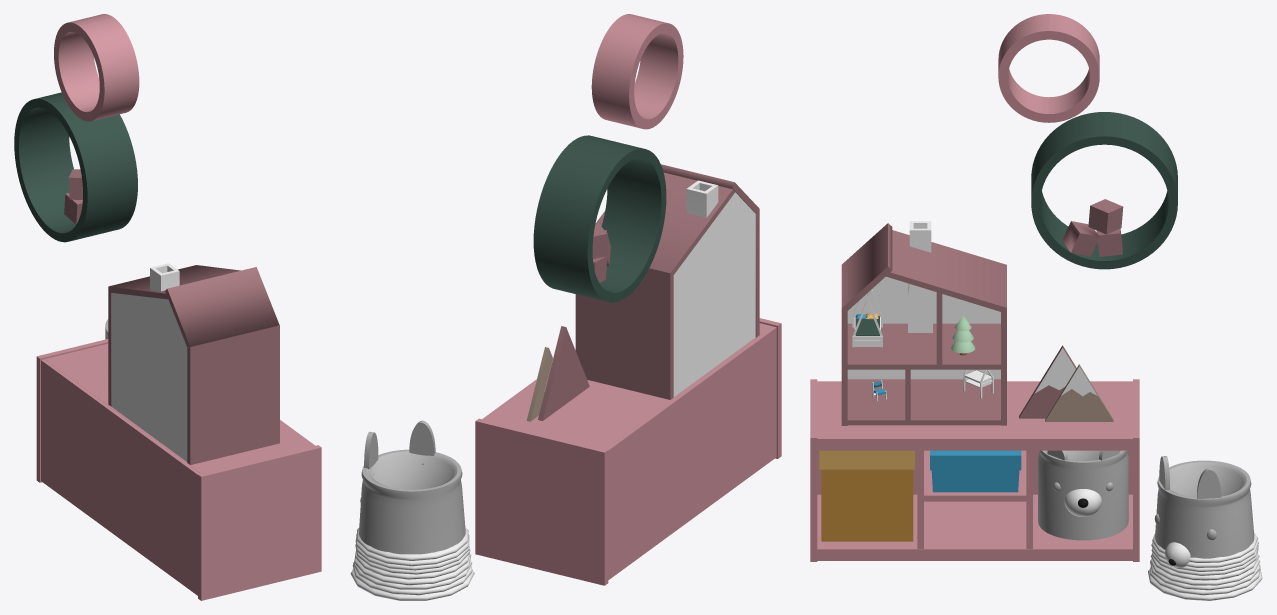
File: Furn1_playzone_color2_joined.fbx
3 views of the same model, side by side, from view 1: azimuth 30°, elevation 25°; view 2: azimuth 150°, elevation 25°; view 3: azimuth 270°, elevation 25° (orthographic). The views are drawn at different scales.
Visible parts, largest first — view 1: Цилиндр.001; view 2: Цилиндр.001; view 3: Цилиндр.001.
Boxes of the visible parts, bbox=[...] form: Цилиндр.001: bbox=[14, 14, 321, 600]; Цилиндр.001: bbox=[350, 14, 781, 600]; Цилиндр.001: bbox=[810, 14, 1262, 600].
Bounding box in the file's own units: 200 × 471 × 392.
